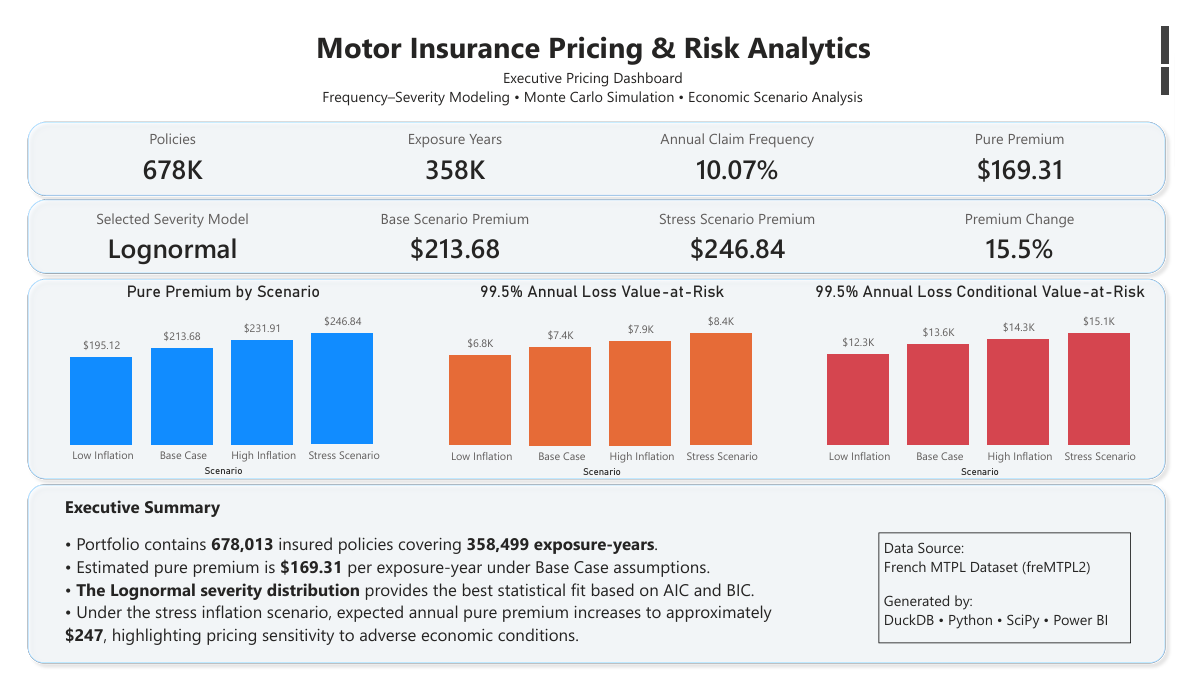

This screenshot's page, from the dashboard's own definition file:
{"tool":"powerbi","page":{"name":"Executive Pricing Dashboard","canvas":[1280,720],"ordinal":0},"visuals":[{"type":"shape","box":[0,101.7,1279.3,100],"z":0},{"type":"shape","box":[0,188,1279.3,100],"z":1000},{"type":"shape","box":[0,503.6,1278.6,216.1],"z":2000},{"type":"shape","box":[0,275.9,1279.3,239.7],"z":3000},{"type":"cardVisual","fields":{"Data":["Sum(mart_dashboard_overview.policy_count)","Sum(mart_dashboard_overview.total_exposure)","Sum(mart_dashboard_overview.claim_frequency)","Sum(mart_dashboard_overview.pure_premium)"]},"box":[0,98.2,1280.7,103.5],"z":4000},{"type":"textbox","box":[0.5,0,1278.9,59.6],"z":5000},{"type":"textbox","box":[45,519,810.3,188],"z":6000},{"type":"columnChart","title":"99.5% Annual Loss Value-at-Risk","fields":{"Y":["Sum(mart_pricing_scenarios.var_99_5)"],"Category":["mart_pricing_scenarios.scenario_name"]},"box":[435.5,288.4,419.3,221.1],"z":7000},{"type":"columnChart","title":"99.5% Annual Loss Conditional Value-at-Risk","fields":{"Category":["mart_pricing_scenarios.scenario_name"],"Y":["Sum(mart_pricing_scenarios.cvar_99_5)"]},"box":[854.8,288.4,419.3,221.1],"z":8000},{"type":"columnChart","title":"Pure Premium by Scenario","fields":{"Category":["mart_pricing_scenarios.scenario_name"],"Y":["Sum(mart_pricing_scenarios.expected_loss)"]},"box":[16.2,288.4,419.3,219.3],"z":9000},{"type":"cardVisual","fields":{"Data":["Min(mart_pricing_summary.selected_severity_model)","Sum(mart_pricing_summary.base_scenario_premium)","Sum(mart_pricing_summary.stress_scenario_premium)","Sum(mart_pricing_summary.stress_premium_change_pct)"]},"box":[0,178.9,1280.7,117.5],"z":10000},{"type":"textbox","box":[0,46,1278.9,52.6],"z":11000},{"type":"textbox","box":[951.8,566.1,280.4,123.2],"z":12000}]}

Visuals, with their boxes in screenshot pixels (x1, y1, x2, y2), scaled from the page's 1280x720 canvas onto the 1189x685 screenshot:
shape: {"x1": 0, "y1": 97, "x2": 1188, "y2": 192}
shape: {"x1": 0, "y1": 179, "x2": 1188, "y2": 274}
shape: {"x1": 0, "y1": 479, "x2": 1188, "y2": 684}
shape: {"x1": 0, "y1": 262, "x2": 1188, "y2": 491}
cardVisual - Sum(mart_dashboard_overview.policy_count) x Sum(mart_dashboard_overview.total_exposure): {"x1": 0, "y1": 93, "x2": 1188, "y2": 192}
textbox: {"x1": 0, "y1": 0, "x2": 1188, "y2": 57}
textbox: {"x1": 42, "y1": 494, "x2": 794, "y2": 673}
"99.5% Annual Loss Value-at-Risk" columnChart: {"x1": 405, "y1": 274, "x2": 794, "y2": 485}
"99.5% Annual Loss Conditional Value-at-Risk" columnChart: {"x1": 794, "y1": 274, "x2": 1184, "y2": 485}
"Pure Premium by Scenario" columnChart: {"x1": 15, "y1": 274, "x2": 405, "y2": 483}
cardVisual - Min(mart_pricing_summary.selected_severity_model) x Sum(mart_pricing_summary.base_scenario_premium): {"x1": 0, "y1": 170, "x2": 1188, "y2": 282}
textbox: {"x1": 0, "y1": 44, "x2": 1188, "y2": 94}
textbox: {"x1": 884, "y1": 539, "x2": 1145, "y2": 656}
